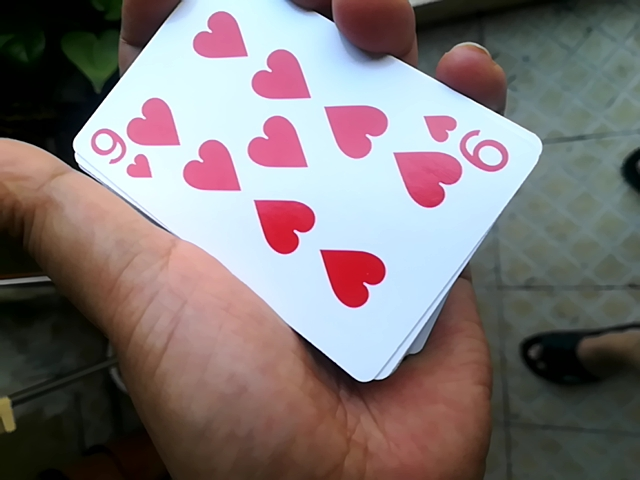hx 9: (67, 7, 516, 367)
